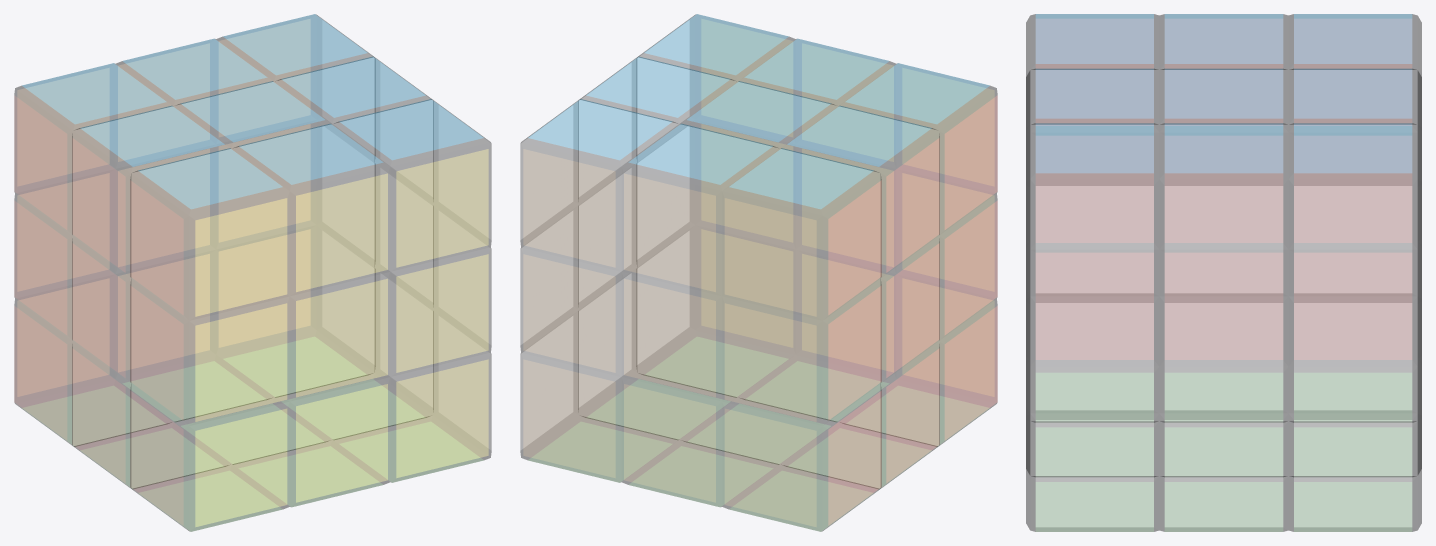
The model's file is Rubik_s_cube.glb.
The picture shows the model from 3 angles, left to right: view 1: azimuth 30°, elevation 25°; view 2: azimuth 150°, elevation 25°; view 3: azimuth 270°, elevation 25°; orthographic projection. The views are drawn at different scales.
Visible parts, largest first — view 1: RubiksCube_01; view 2: RubiksCube_01; view 3: RubiksCube_01.
Boxes of the visible parts, left/top/right/bottom form: RubiksCube_01: left=14, top=14, right=491, bottom=531; RubiksCube_01: left=520, top=14, right=997, bottom=531; RubiksCube_01: left=1026, top=14, right=1421, bottom=531.
Bounding box in the file's own units: 65.37 × 65.37 × 65.37.
